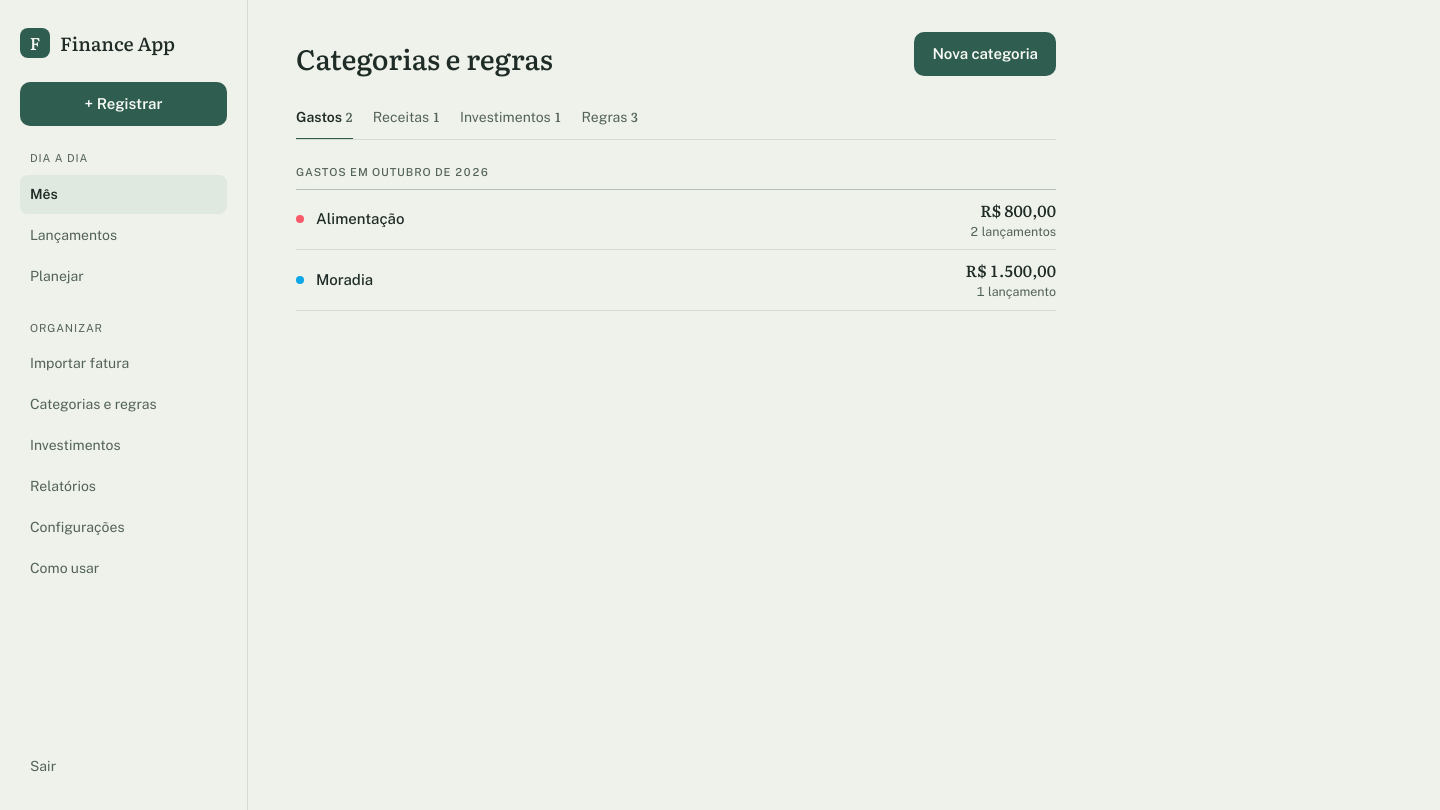
Test: Página de categorias - Aba de regras de categorização › filtra as regras pelo nome do estabelecimento no campo de busca
Click the tab "Regras 3" at (610, 118), box [582, 96, 638, 140]
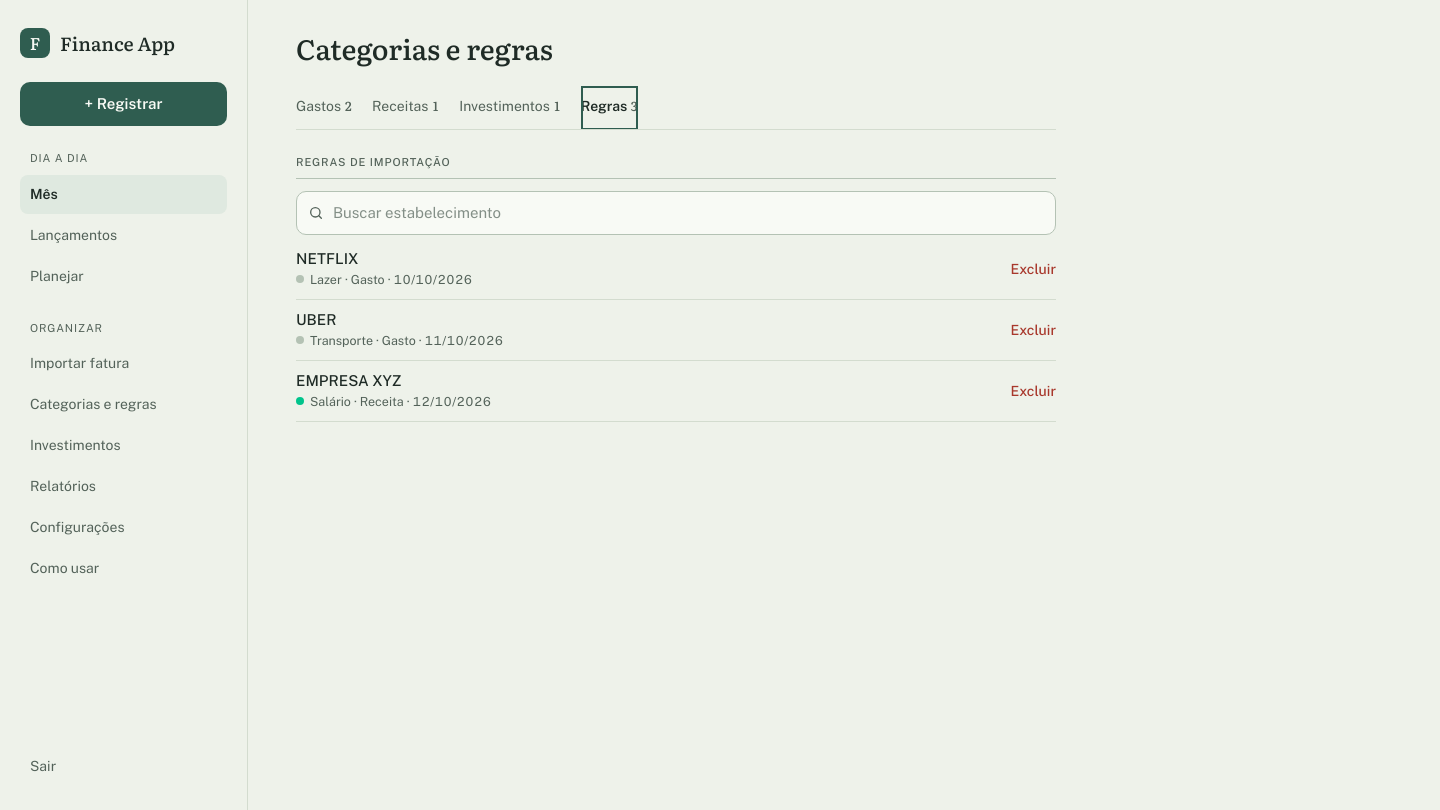
Type "uber" into the search field named "Buscar regra por estabelecimento" at (676, 213), box [296, 191, 1056, 235]
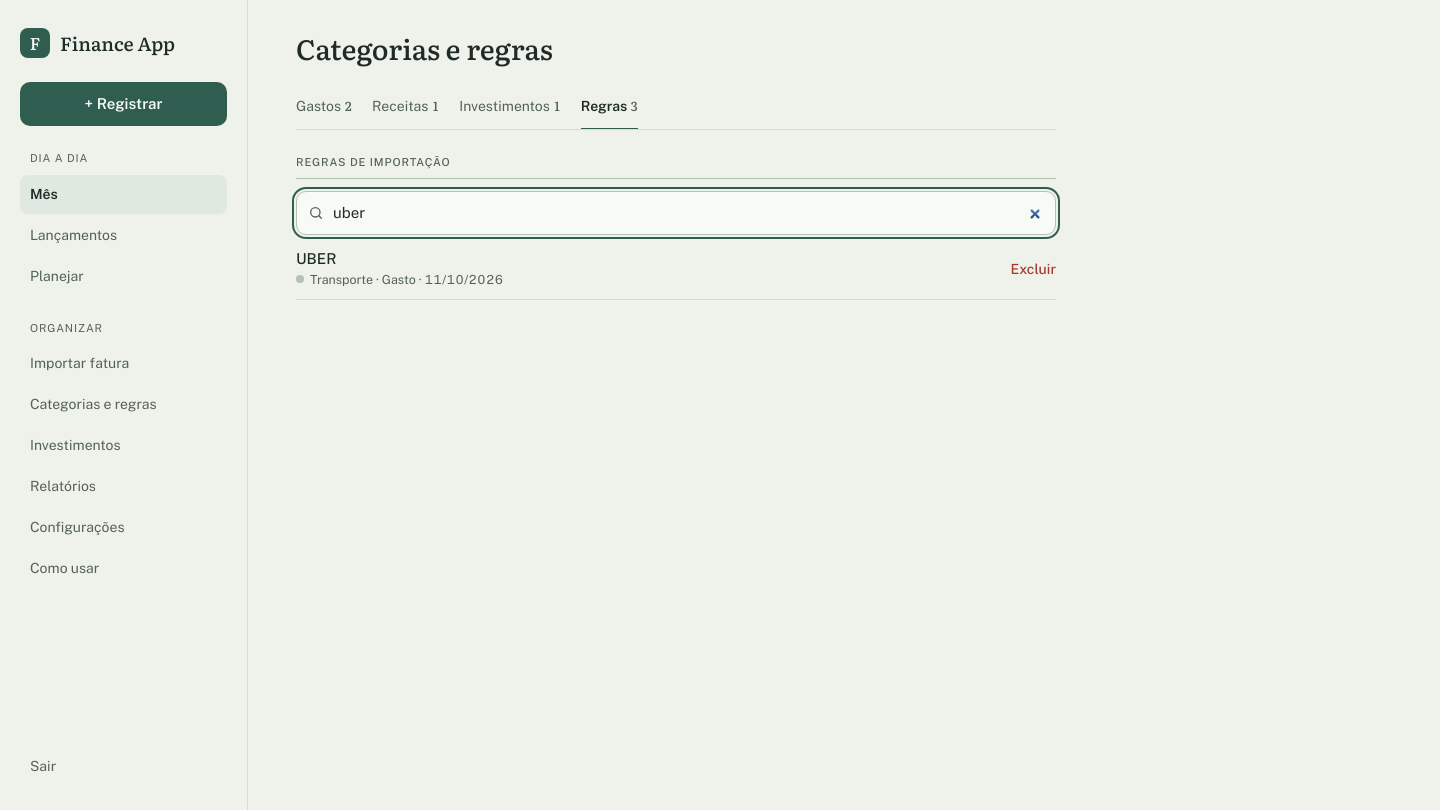
Expected: the text "UBER" is shown, [296, 250, 336, 268]
Expected: the text "NETFLIX" is gone
Expected: the text "EMPRESA XYZ" is gone
Note: Busca sem correspondência
Replace the text in the search field named "Buscar regra por estabelecimento" with "farmacia inexistente" at (676, 213), box [296, 191, 1056, 235]
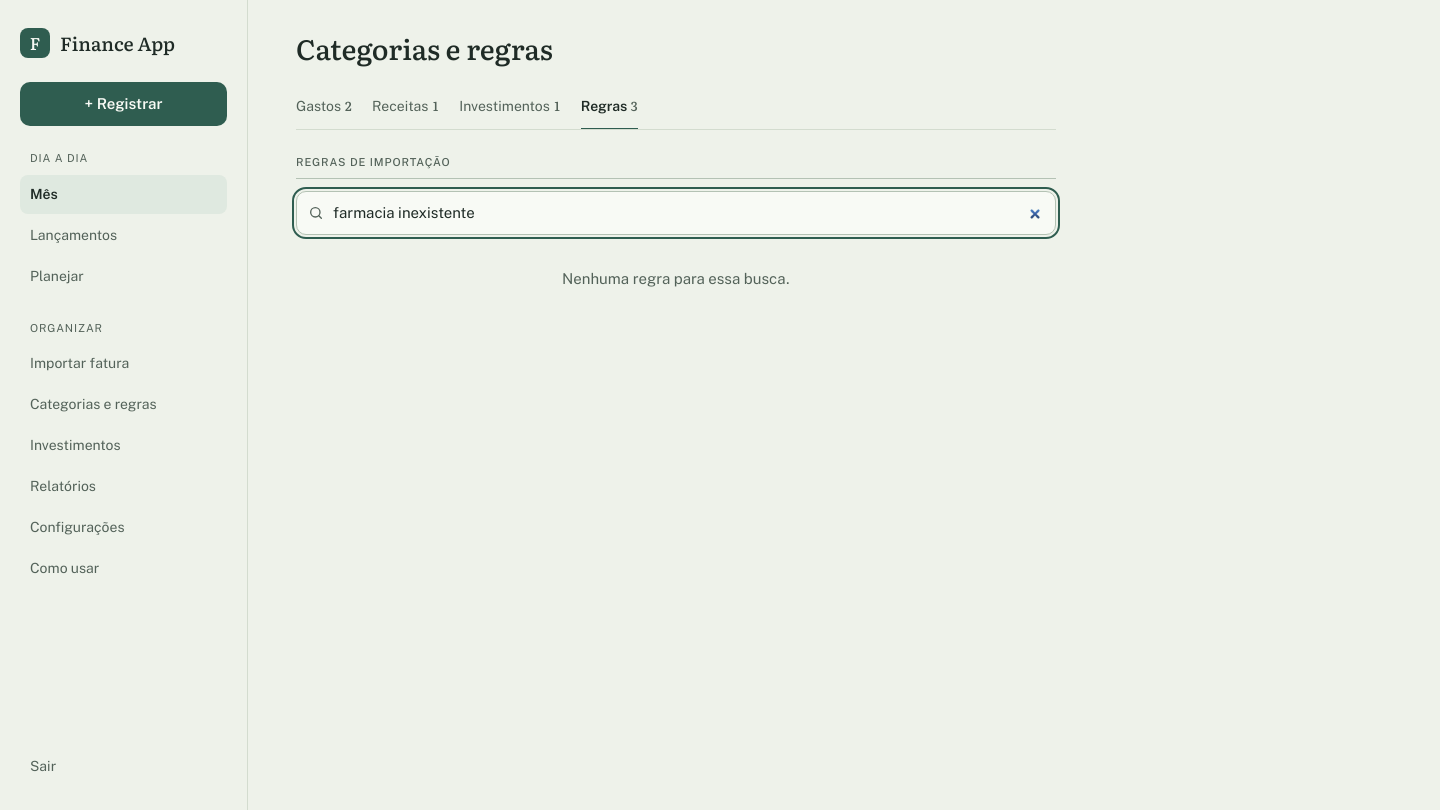
Expected: the text "Nenhuma regra para essa busca." is shown, [562, 270, 790, 287]
Note: Limpar busca restaura todas
Clear the search field named "Buscar regra por estabelecimento" at (676, 213), box [296, 191, 1056, 235]
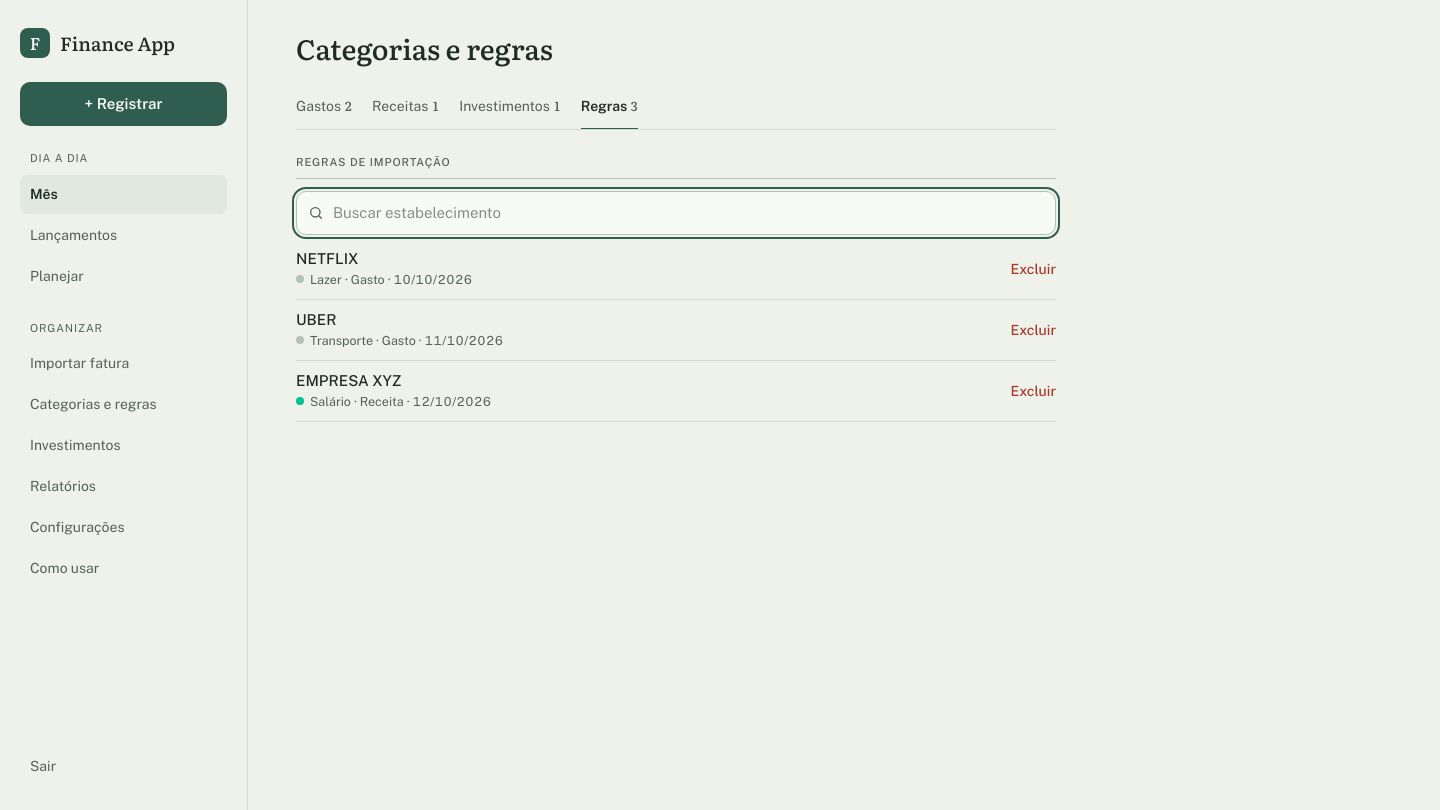
Expected: the text "NETFLIX" is shown, [296, 250, 358, 268]
Expected: the text "UBER" is shown, [296, 312, 336, 328]
Expected: the text "EMPRESA XYZ" is shown, [296, 372, 402, 390]
